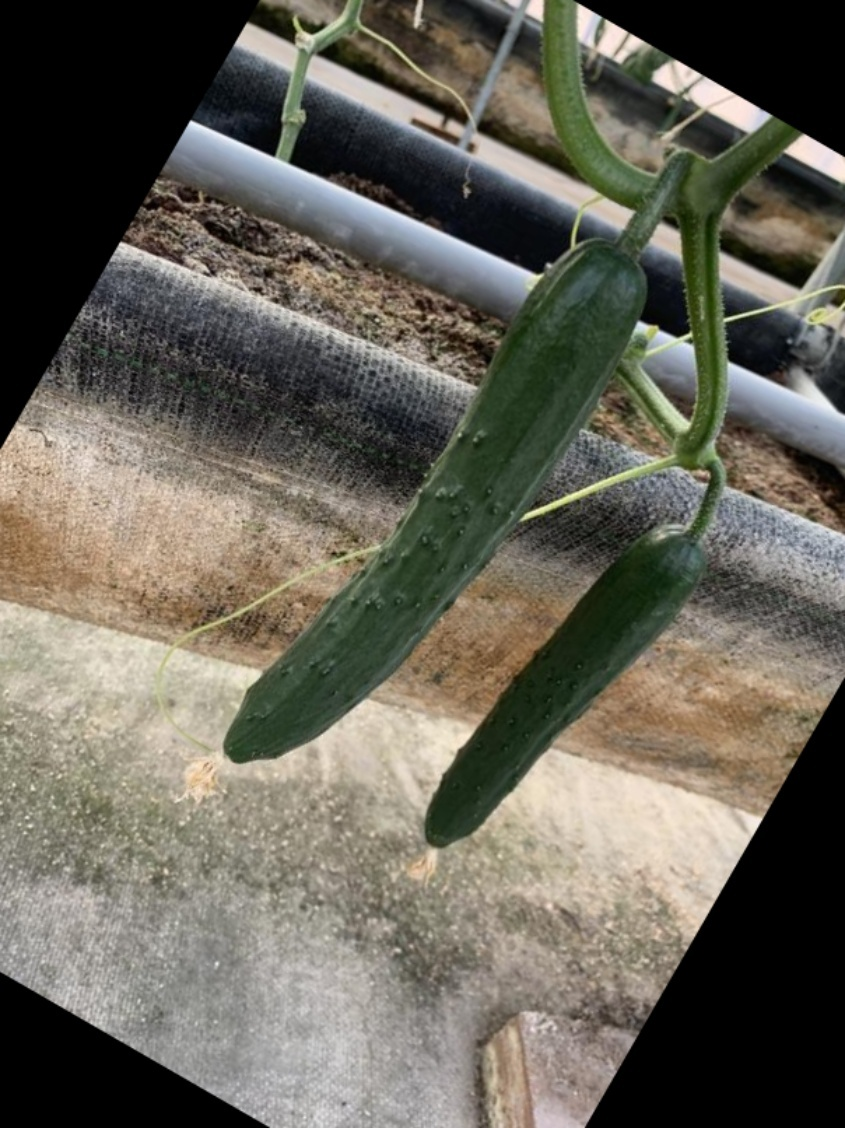mature: (413, 519, 708, 854)
